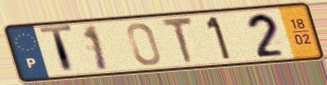0: (125, 21, 163, 67)
1: (80, 23, 113, 71), (204, 15, 233, 61)
2: (243, 9, 290, 61)
T: (37, 23, 77, 76), (160, 15, 196, 66)
